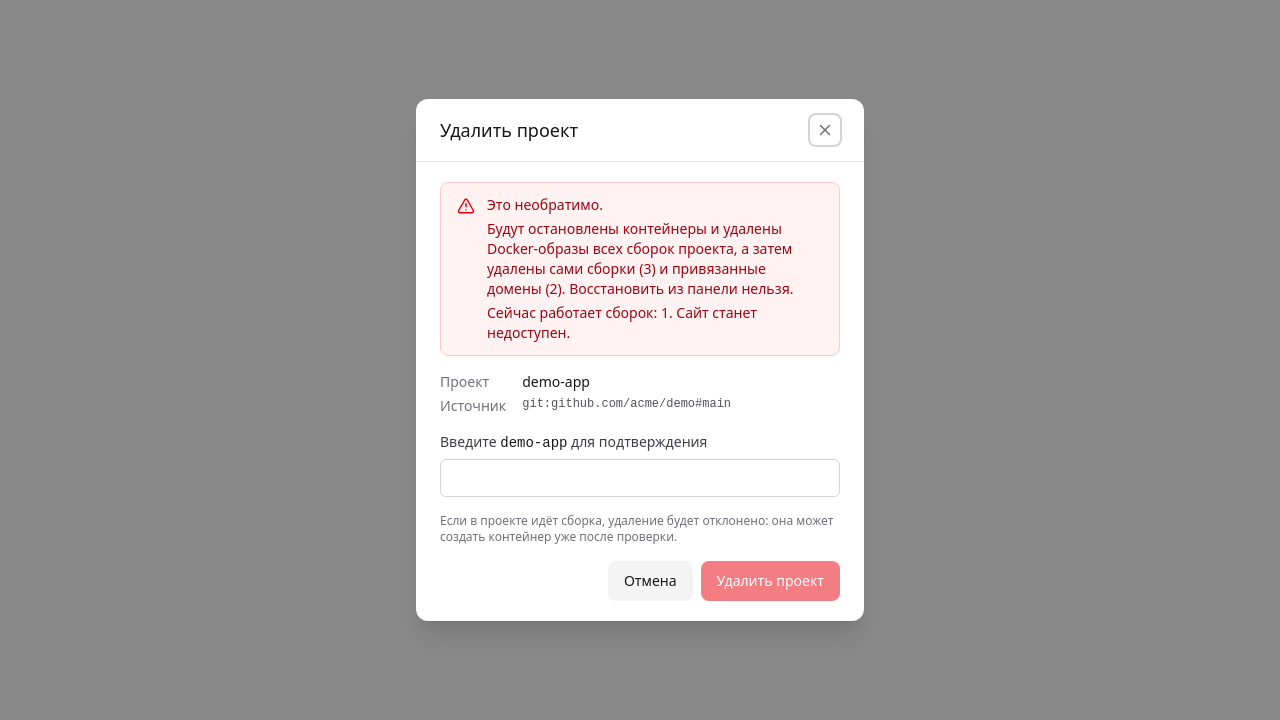
DeleteProjectDialog › will not submit until the slug is typed exactly
The image size is (1280, 720).
Expected: the button "Удалить проект" is disabled, [701, 561, 840, 601]
Type "demo-ap" into the field labelled "Введите demo-app для подтверждения".
click(640, 478); type("demo-ap")  # box [440, 459, 840, 497]
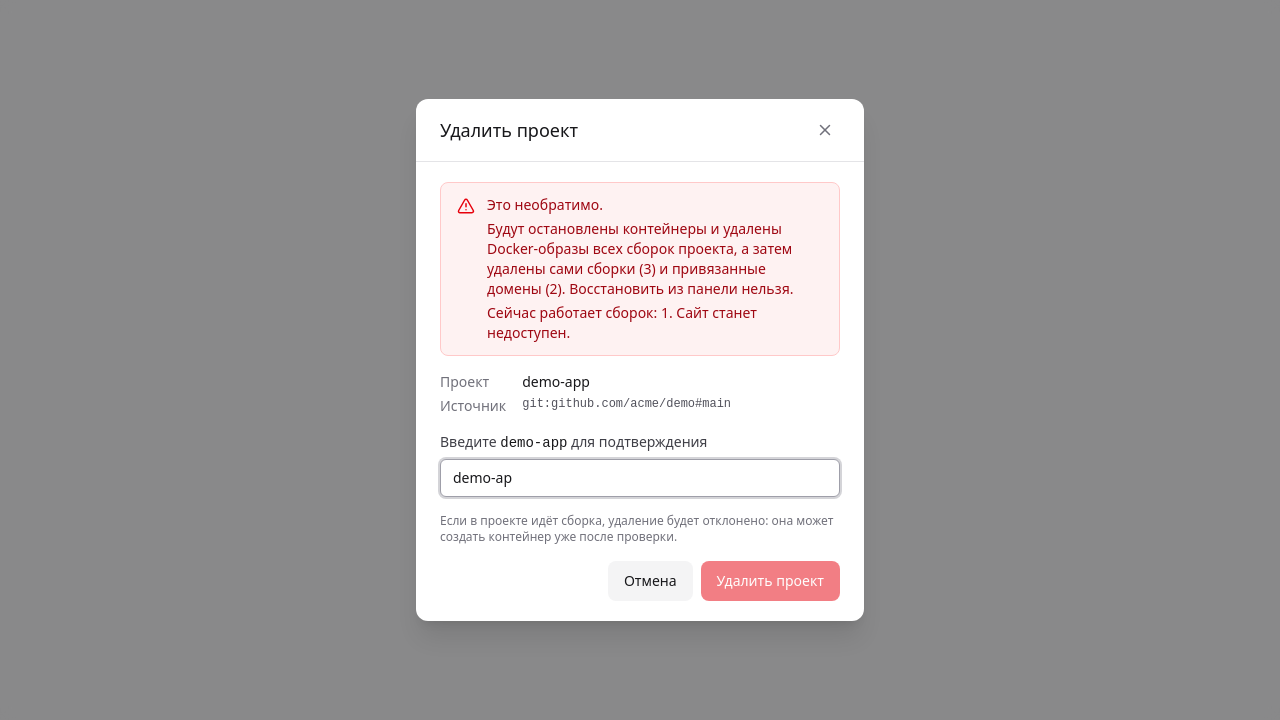
Expected: the button "Удалить проект" is disabled, [701, 561, 840, 601]
Type "p" into the field labelled "Введите demo-app для подтверждения".
click(640, 478); type("p")  # box [440, 459, 840, 497]
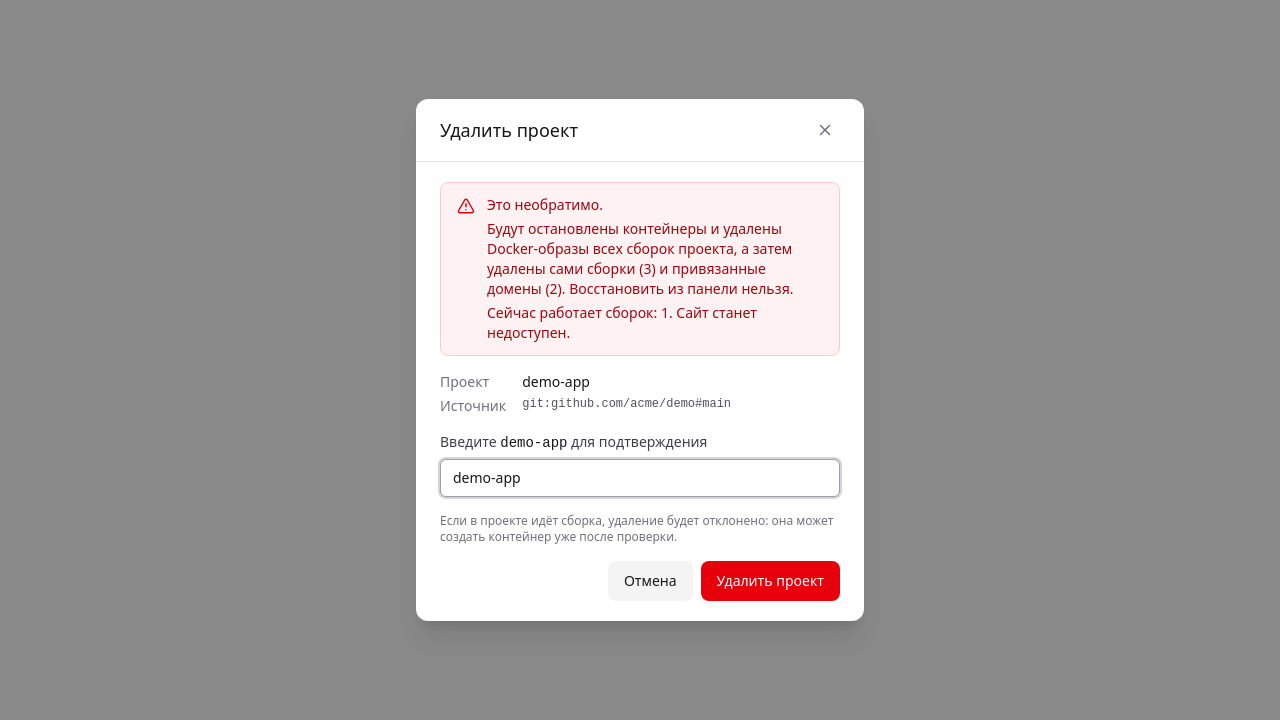
Expected: the button "Удалить проект" is enabled, [701, 561, 840, 601]
